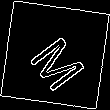M_NE: (21, 21, 89, 89)
